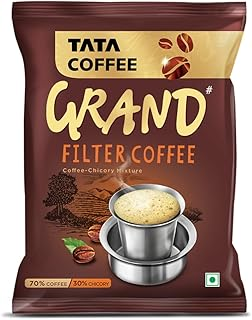Coffee: (9, 1, 252, 319)
